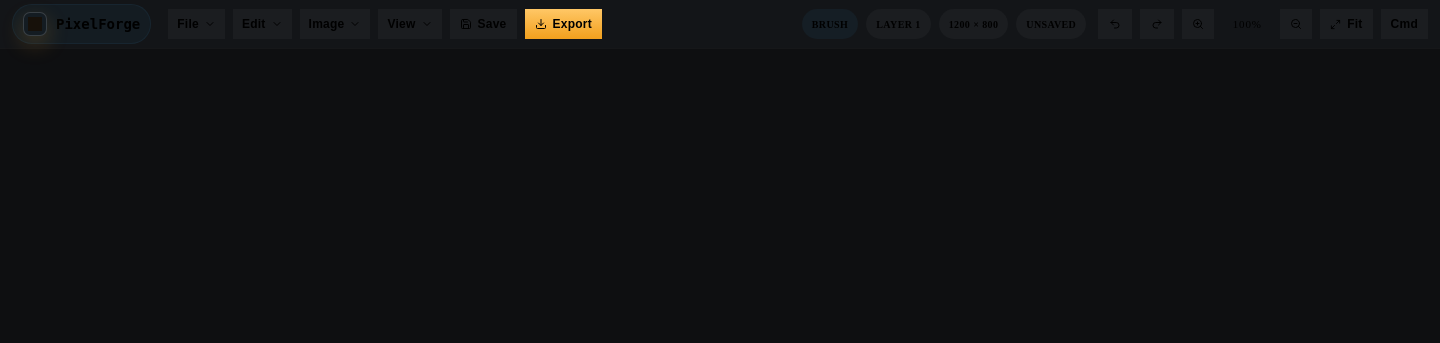
it: EditorMenu › groups file actions inside a dropdown menu
Click the button "File" at (197,24), box x1=168 y1=9 x2=225 y2=39
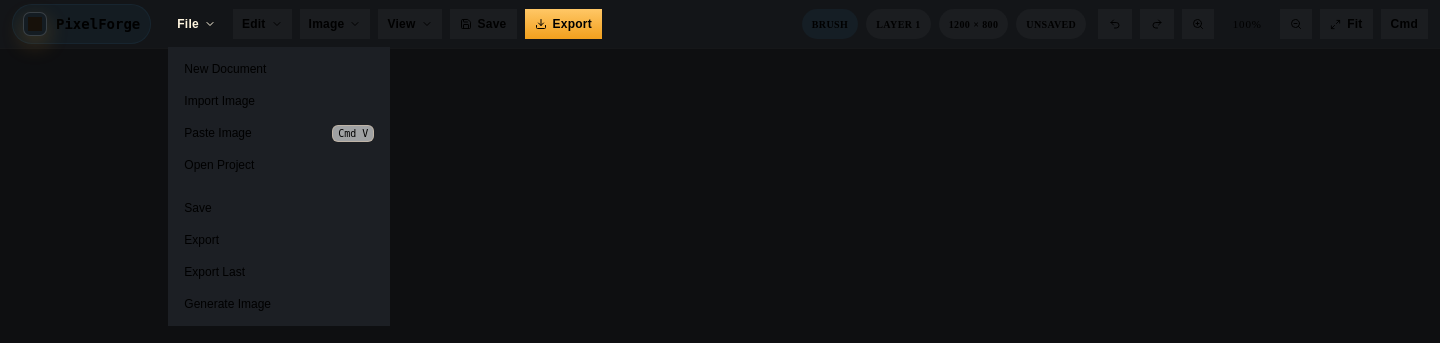
Expected: the menu named "File menu" is shown, x1=168 y1=47 x2=390 y2=326
Click the menu item "Import Image" at (279,101), box x1=174 y1=85 x2=384 y2=117
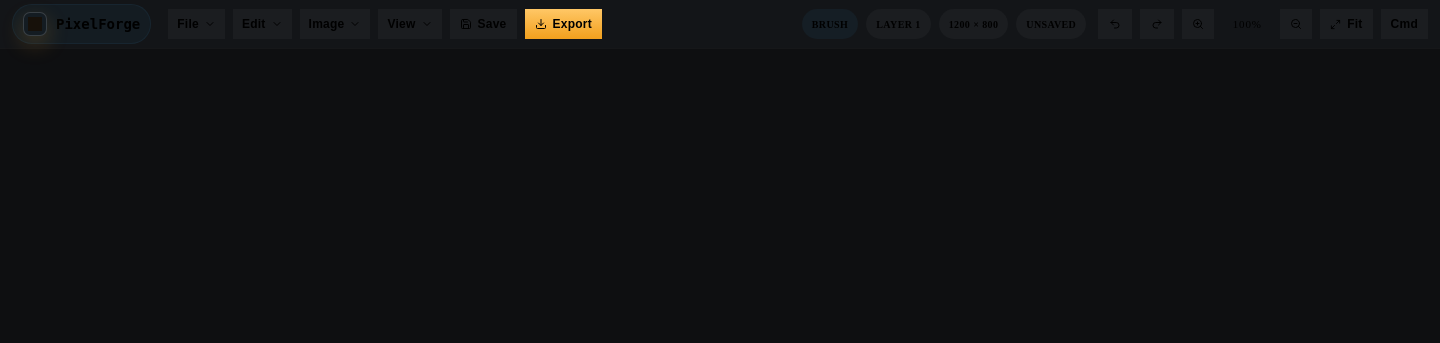
Expected: the menu "File menu" is gone
